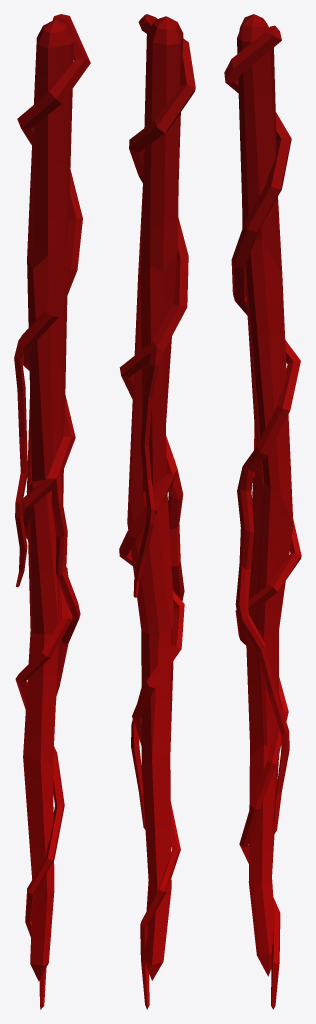
Rendered from SM_Env_Vines_03.glb.
3 renders of one model, left to right at view 1: azimuth 90°, elevation 25°; view 2: azimuth 150°, elevation 25°; view 3: azimuth 330°, elevation 25°, orthographic.
Visible parts, largest first — view 1: SM_Env_Vines_03; view 2: SM_Env_Vines_03; view 3: SM_Env_Vines_03.
Part boxes in pixels (bbox=[...]): SM_Env_Vines_03: bbox=[14, 14, 90, 1009]; SM_Env_Vines_03: bbox=[119, 14, 195, 1009]; SM_Env_Vines_03: bbox=[224, 14, 301, 1009].
Size of the model in its own units: 0.4638 by 6.55 by 0.457.
